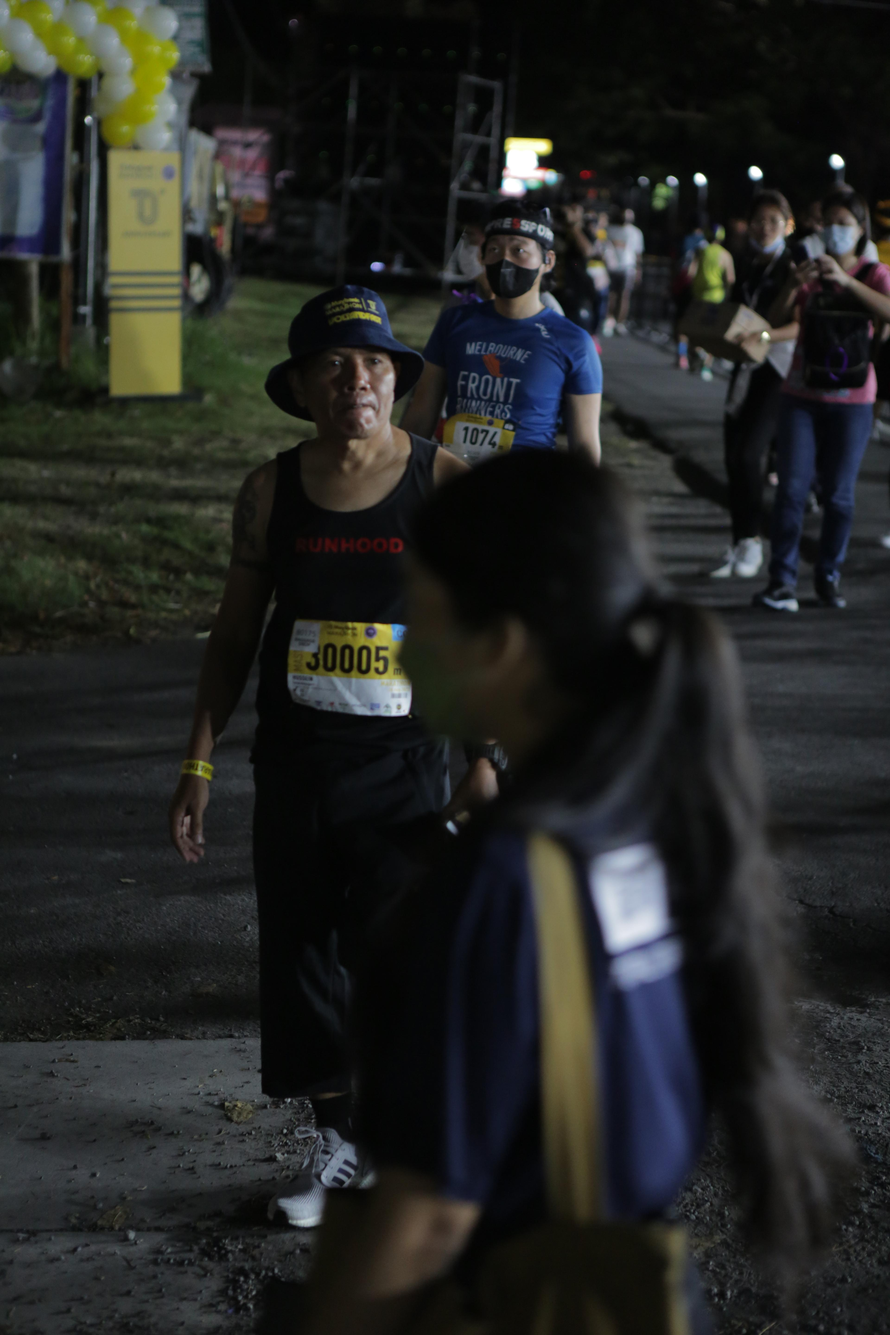bib: (288, 616, 411, 716), (443, 415, 512, 469)
